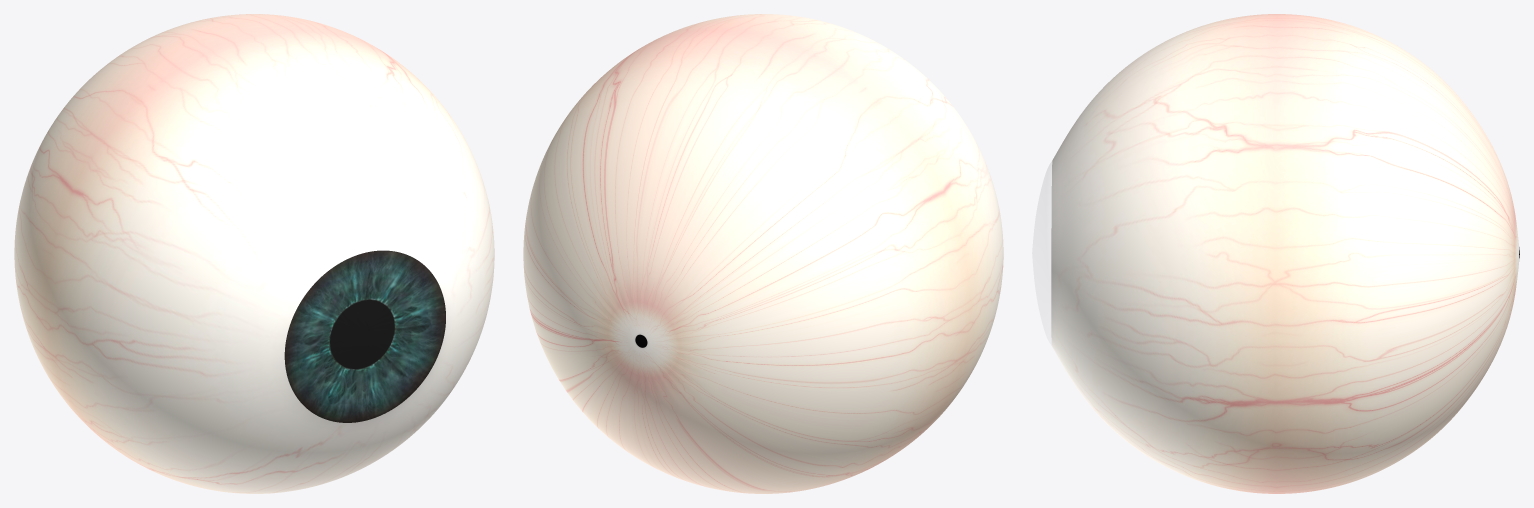
Rendered from bolamata.gltf.
The picture shows the model from 3 angles, left to right: view 1: azimuth 30°, elevation 25°; view 2: azimuth 150°, elevation 25°; view 3: azimuth 270°, elevation 25°; orthographic projection.
Parts seen in each view (by area): view 1: eyeball_1, eyeball_1.002, eyeball_1.001; view 2: eyeball_1; view 3: eyeball_1, eyeball_1.003.
Boxes of the visible parts, x1,y1,x2,y2 form: eyeball_1: [14, 14, 494, 493]; eyeball_1.002: [284, 250, 445, 422]; eyeball_1.001: [330, 300, 394, 368]; eyeball_1: [523, 14, 1003, 493]; eyeball_1: [1051, 14, 1519, 493]; eyeball_1.003: [1032, 162, 1051, 343].
Size of the model in its own units: 3.86 by 3.86 by 3.92.
4 materials, 4 textured.
